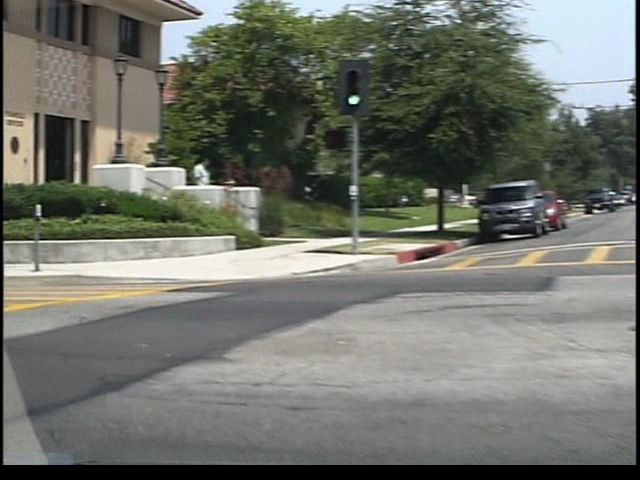person: (181, 151, 203, 219)
